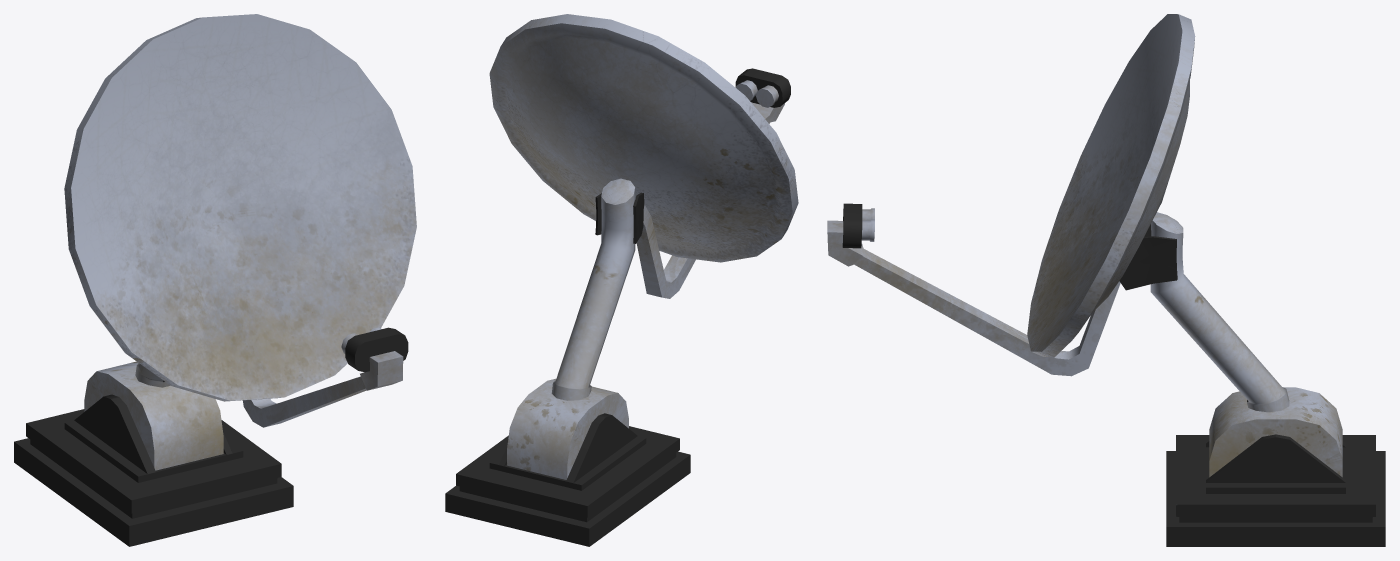
File: SATELLITE_texture.fbx
The picture shows the model from 3 angles, left to right: view 1: azimuth 30°, elevation 25°; view 2: azimuth 150°, elevation 25°; view 3: azimuth 270°, elevation 25°; orthographic projection. The views are drawn at different scales.
Visible parts, largest first — view 1: Satellite1; view 2: Satellite1; view 3: Satellite1.
Part boxes in pixels (bbox=[...]): Satellite1: bbox=[14, 14, 416, 546]; Satellite1: bbox=[445, 14, 798, 546]; Satellite1: bbox=[827, 14, 1385, 546].
Size of the model in its own units: 130 by 185 by 196.
Materials: 1 (1 with a texture image).
